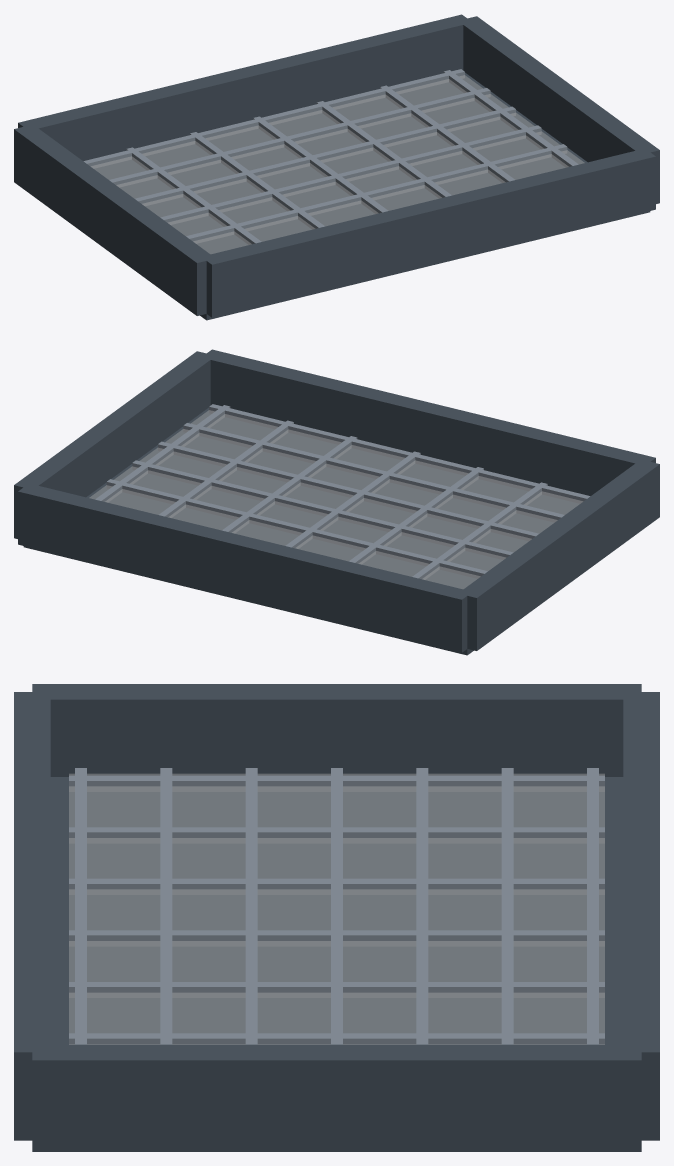
Rendered from filter-mesh.glb.
The picture shows the model from 3 angles, top to bottom: view 1: azimuth 30°, elevation 25°; view 2: azimuth 150°, elevation 25°; view 3: azimuth 270°, elevation 25°; orthographic projection. The views are drawn at different scales.
Size of the model in its own units: 0.73 by 0.09 by 0.53.
